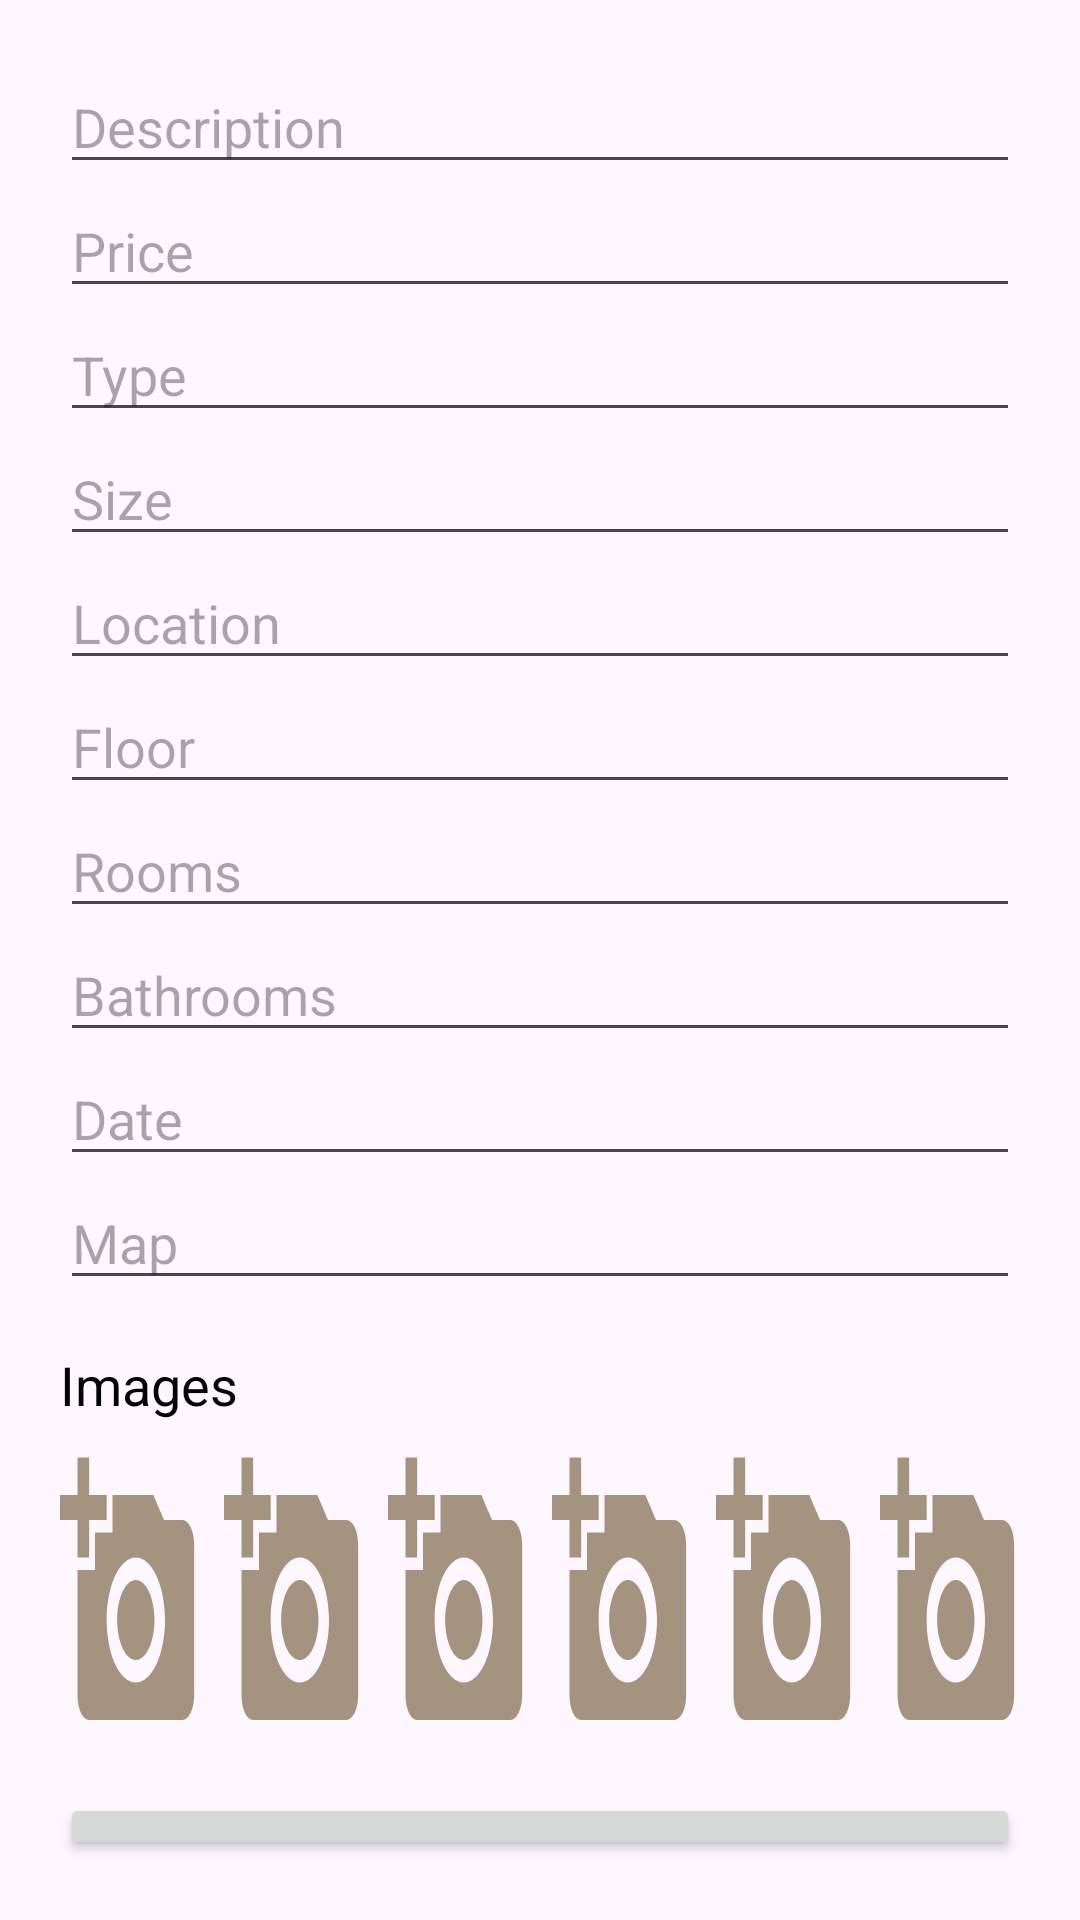

Icon bounding boxes for this 1080*1920 phone screenshot, format [left=x1, top=y1, right=x2, bottom=y2]:
add photo: [left=60, top=1457, right=194, bottom=1720], [left=224, top=1457, right=358, bottom=1720], [left=388, top=1457, right=522, bottom=1720], [left=552, top=1457, right=686, bottom=1720], [left=716, top=1457, right=850, bottom=1720], [left=880, top=1457, right=1014, bottom=1720]
